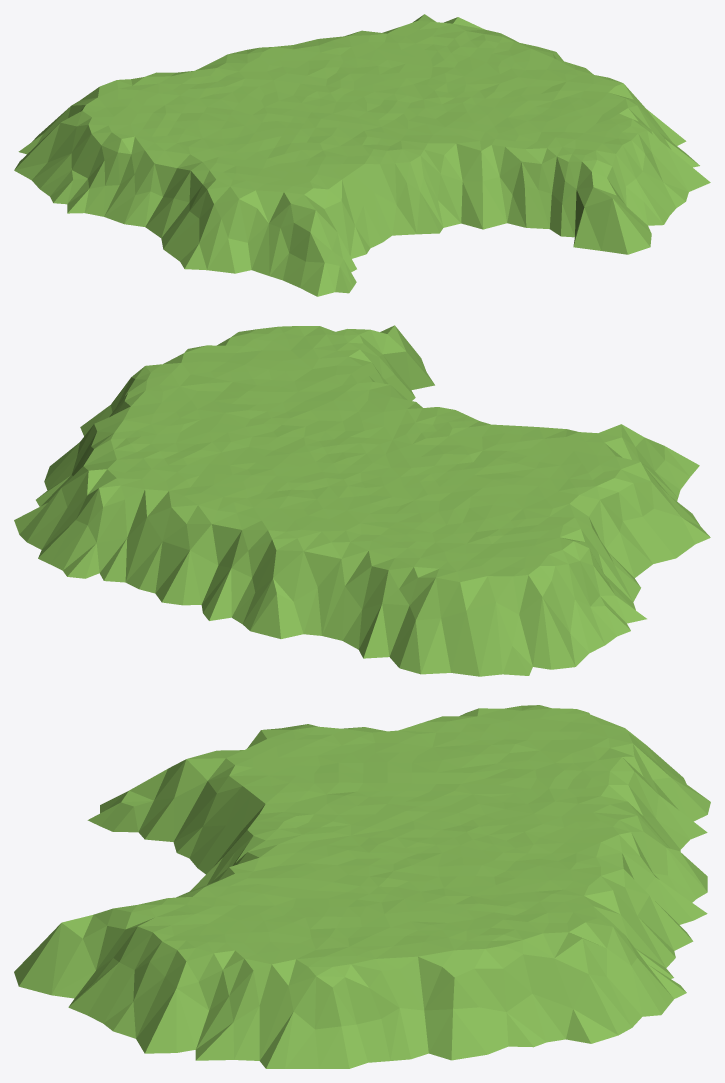
File: MT_Island_L_a_01.fbx
The picture shows the model from 3 angles, top to bottom: view 1: azimuth 30°, elevation 25°; view 2: azimuth 150°, elevation 25°; view 3: azimuth 270°, elevation 25°; orthographic projection. The views are drawn at different scales.
Visible parts, largest first — view 1: MT_Island_L_a_01; view 2: MT_Island_L_a_01; view 3: MT_Island_L_a_01.
Part boxes in pixels (x1=…): MT_Island_L_a_01: x1=14, y1=14, x2=710, y2=296; MT_Island_L_a_01: x1=14, y1=325, x2=710, y2=676; MT_Island_L_a_01: x1=14, y1=705, x2=710, y2=1068.
Bounding box in the file's own units: 9897 × 1006 × 8936.
